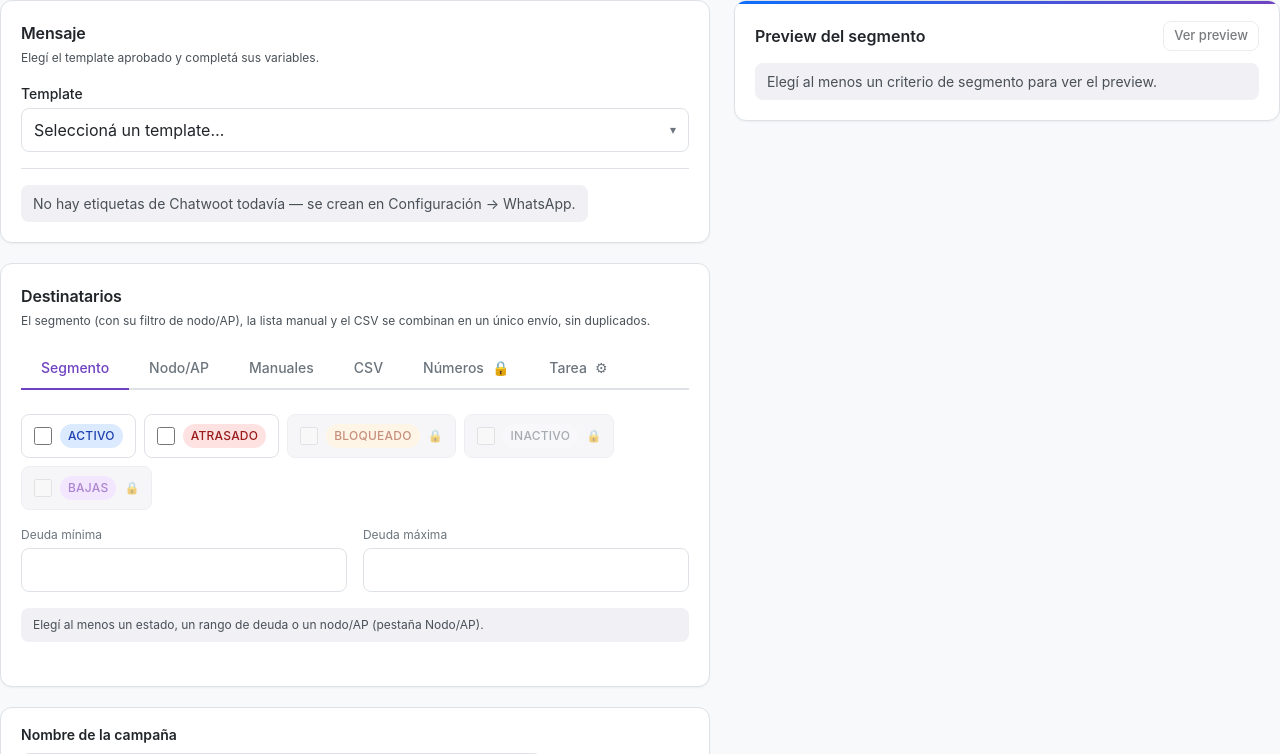
Test case: BP-2: gate del tab Números › sin messaging.bulk_numbers, el textarea de números queda deshabilitado
Click the tab "Números 🔒": (466, 368) top-left (403, 346), bottom-right (529, 390)
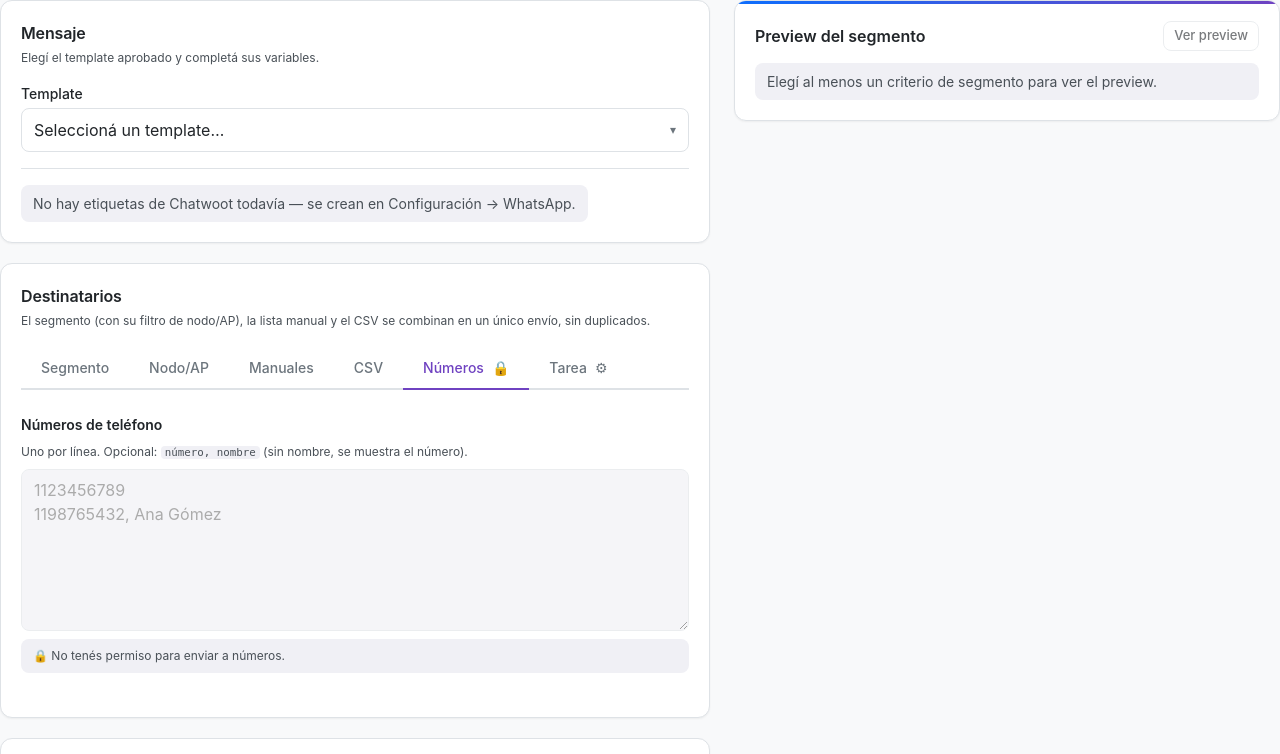
Result: the text box labelled "Números de teléfono" is disabled at top-left (21, 469), bottom-right (689, 631)
